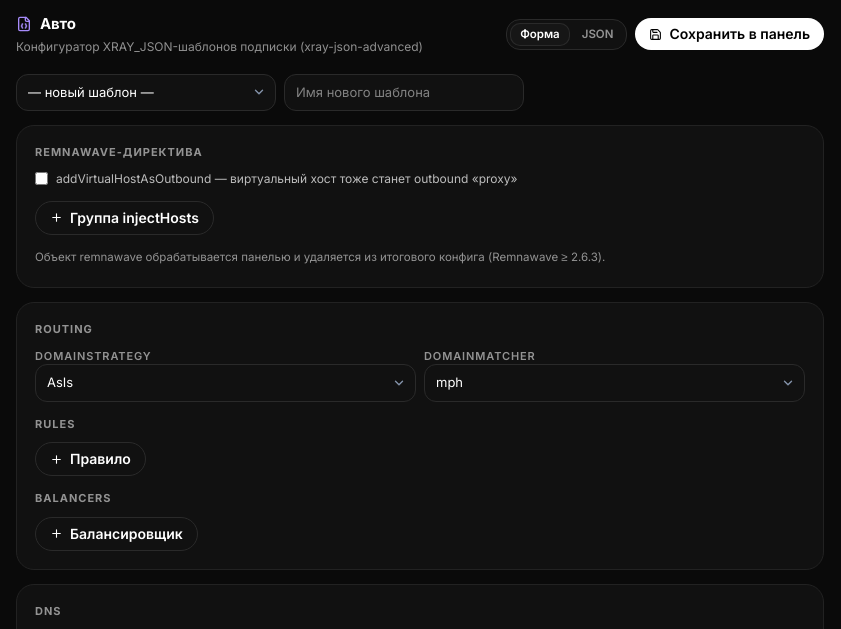
Test case: AutoTemplate › injectHosts: пустой values блокирует сохранение, заполненный — нет
Click the button "Группа injectHosts" at (124, 218), box [35,200,214,234]
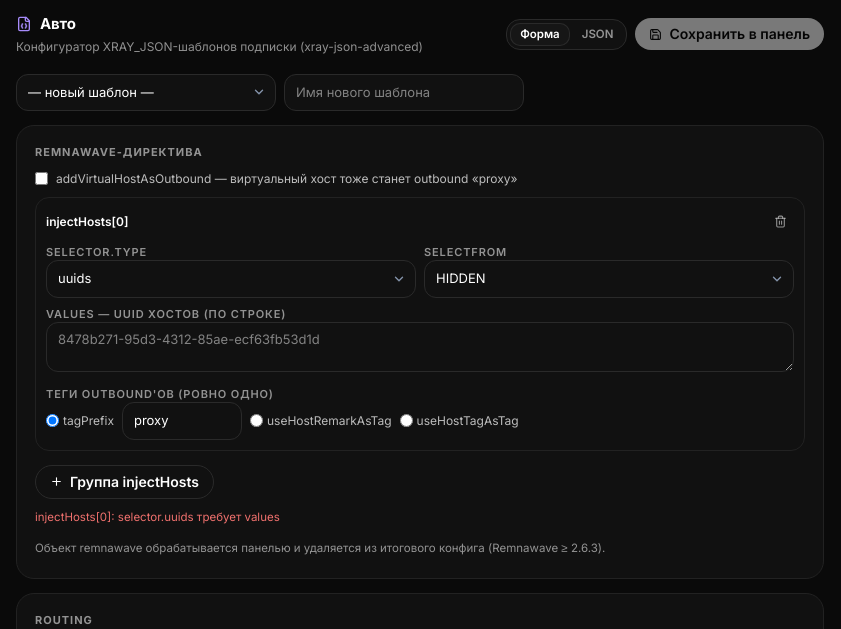
Expected: the text "injectHosts[0]: selector.uuids требует values" is shown, [35,510,280,524]
Expected: the button "Сохранить в панель" is disabled, [635,18,824,50]
# заполнили uuid → валидация прошла
Type "d31d6161-1315-4c1e-9a4b-141ab1c022f6" into the text box with placeholder "8478b271-95d3-4312-85ae-ecf63fb53d1d" at (420, 347), box [46,322,794,372]
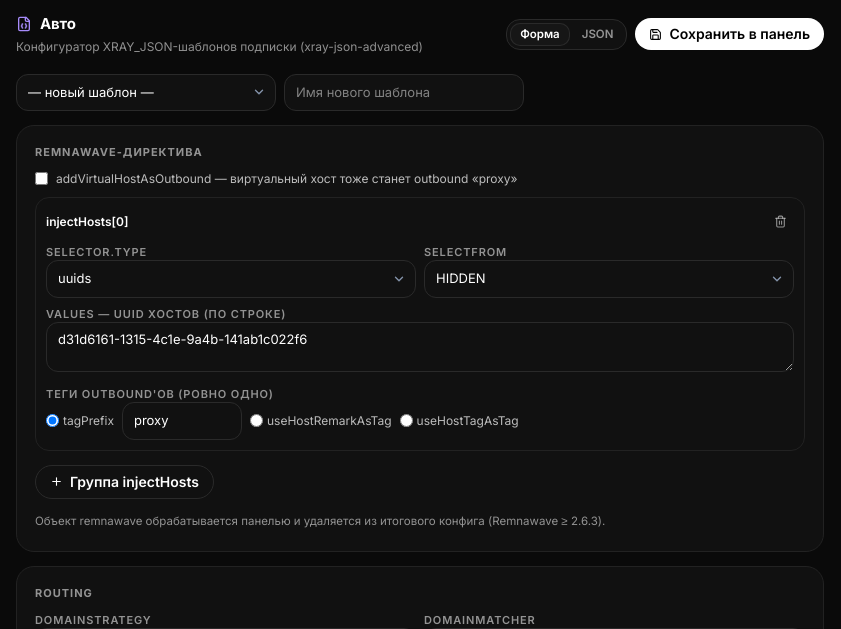
Expected: the text "требует values" is gone
Expected: the button "Сохранить в панель" is enabled, [635,18,824,50]
